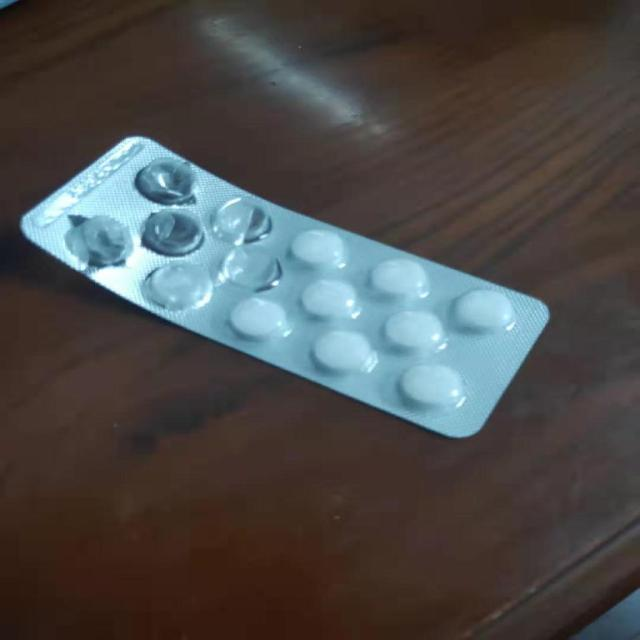-Hazardous waste - medicine inner packaging-: (25, 136, 554, 444)
